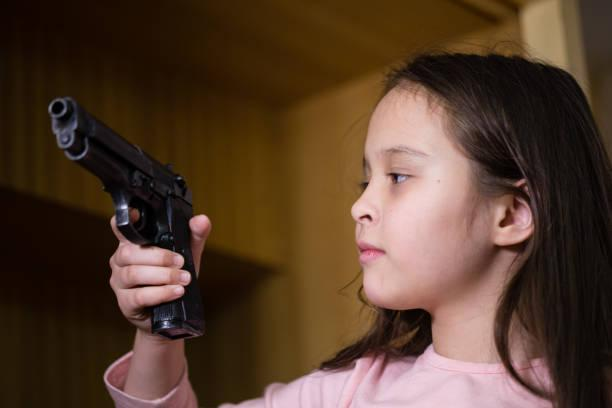weapon: (46, 94, 208, 341)
